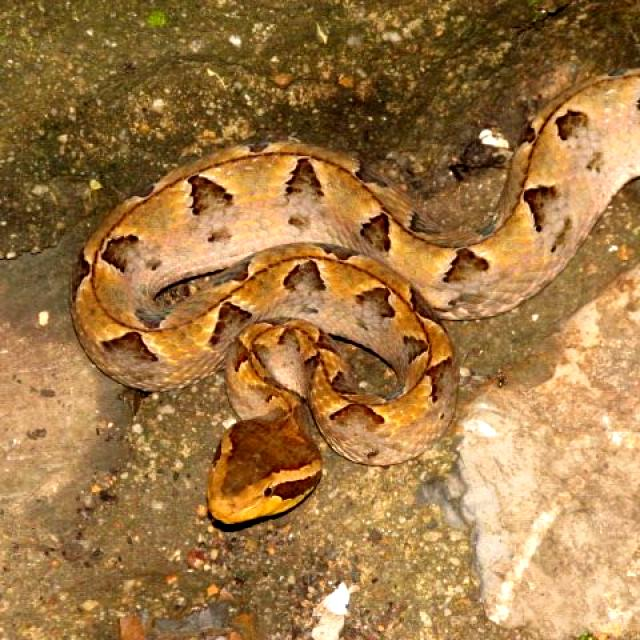Calloselasma rhodostoma: (72, 71, 639, 522)
snake: (72, 71, 639, 522)
